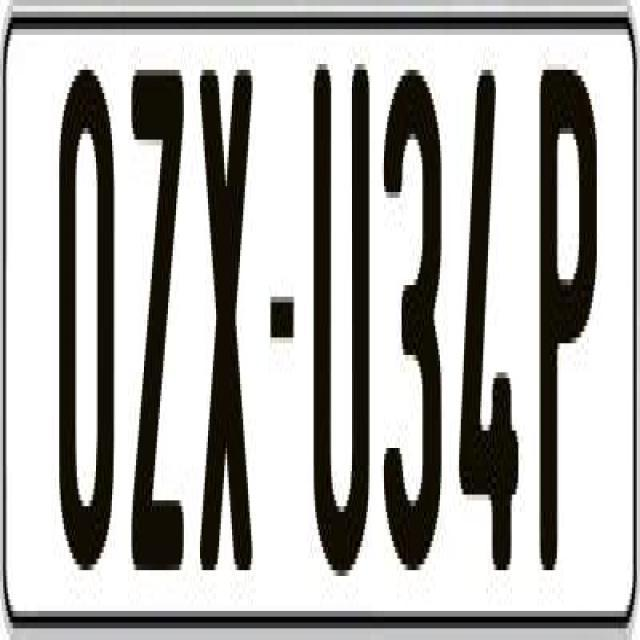0: (54, 70, 108, 594)
3: (383, 70, 444, 600)
4: (454, 59, 520, 565)
P: (536, 70, 595, 570)
U: (314, 46, 370, 582)
X: (195, 70, 248, 570)
Z: (128, 64, 186, 564)
